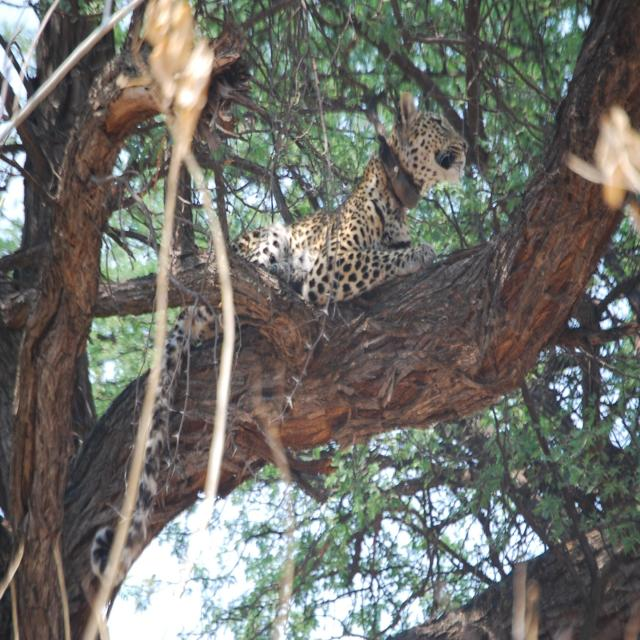Leopard: (99, 102, 462, 592)
